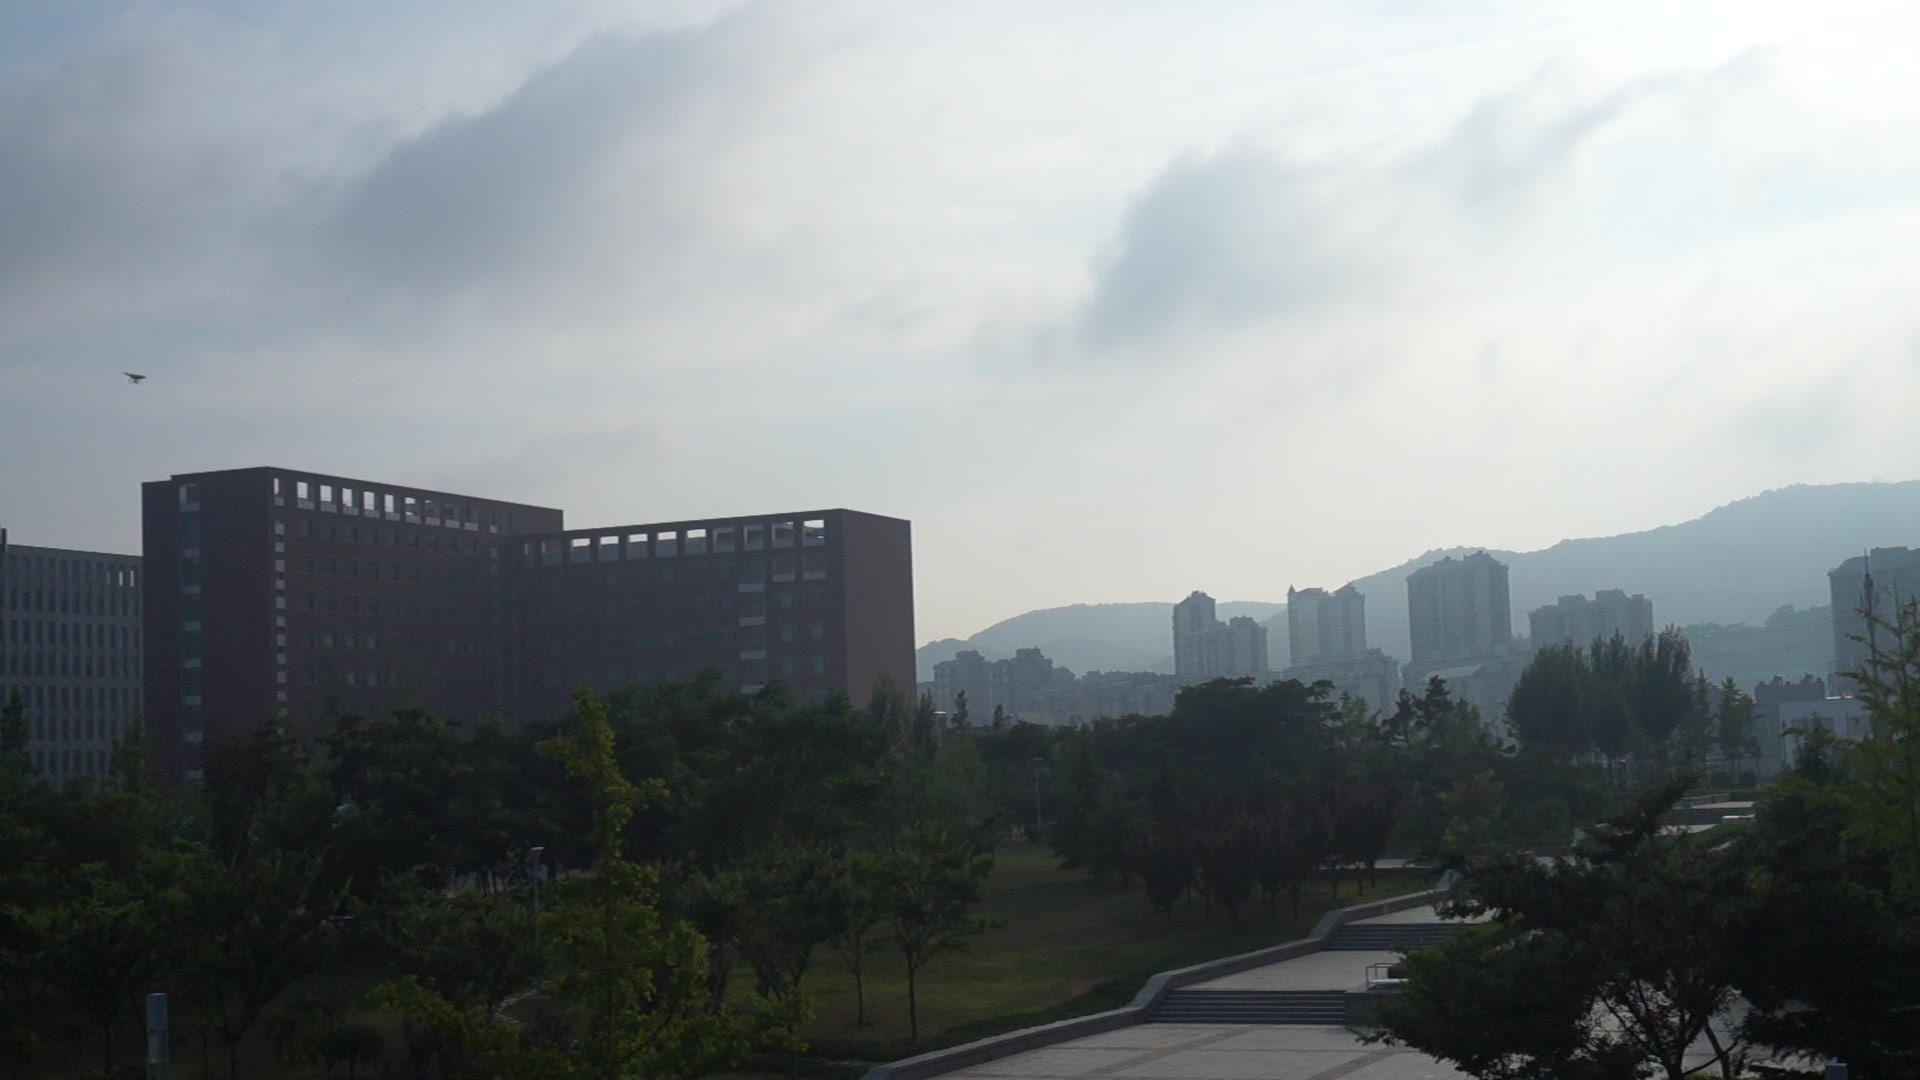UAV: (121, 372, 152, 384)
